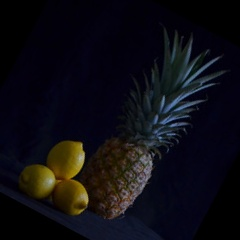Pineapple: (78, 30, 227, 221)
